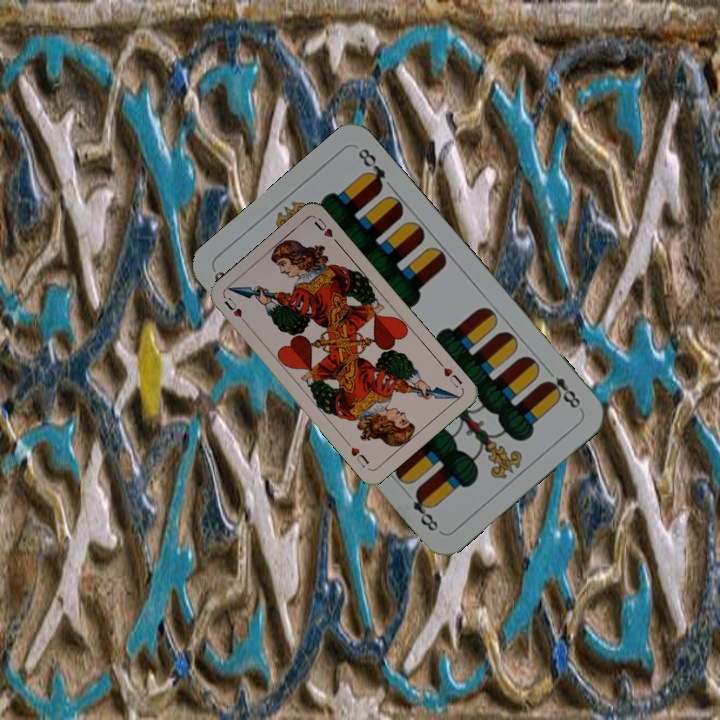E8: (540, 364, 584, 411)
HU: (220, 293, 250, 327), (435, 358, 465, 390)
